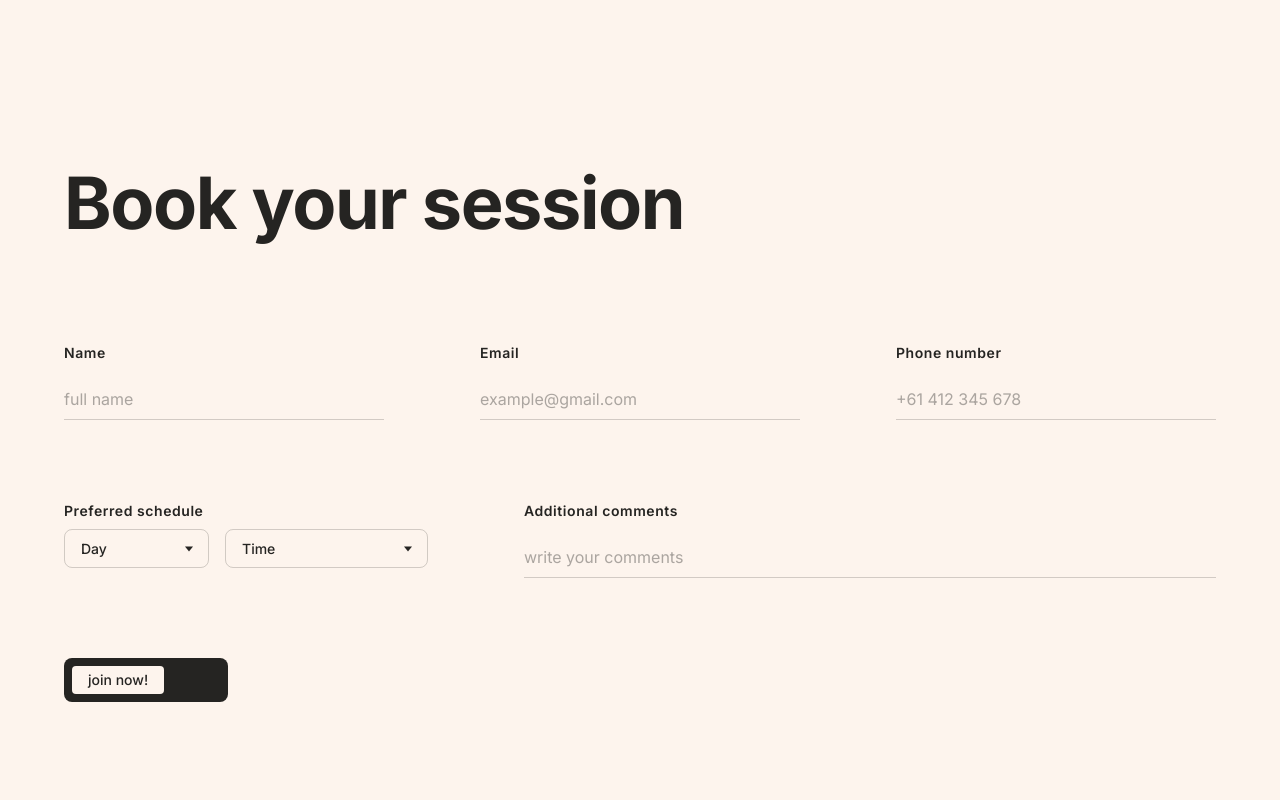
Test case: BookingSection › shows server error when submitBooking returns an error
The image size is (1280, 800).
Type "Jane Smith" into the field labelled "Name" at (224, 400), box [64,379,384,420]
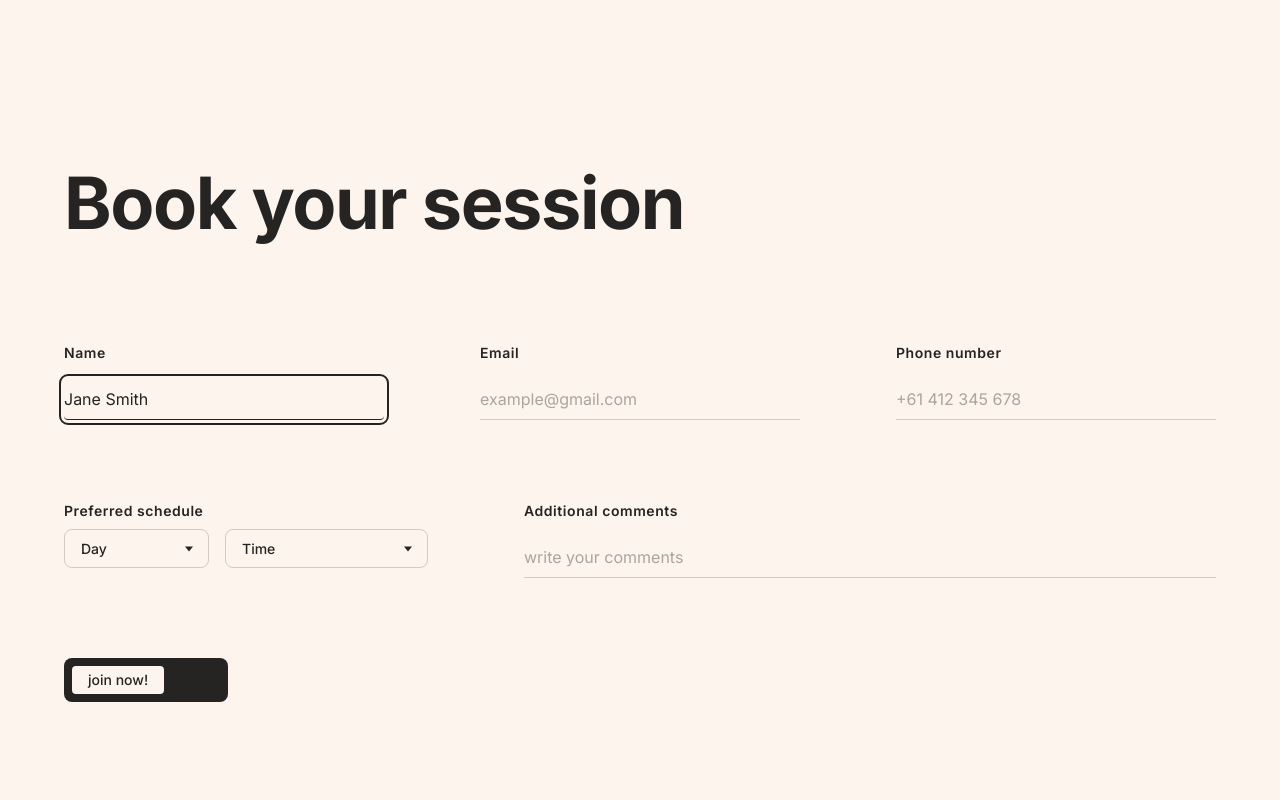
Type "jane@example.com" into the field labelled "Email" at (640, 400), box [480,379,800,420]
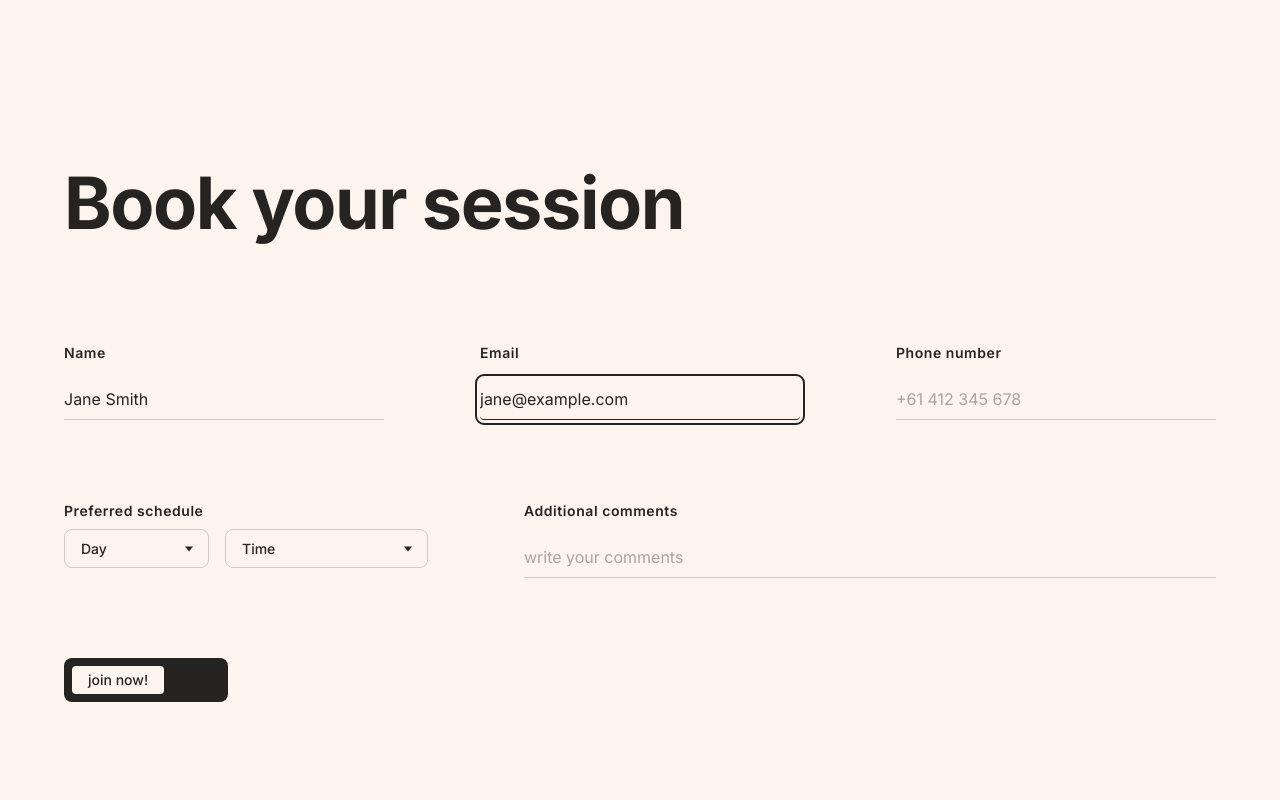
Type "0412345678" into the field labelled "Phone number" at (1056, 400), box [896,379,1216,420]
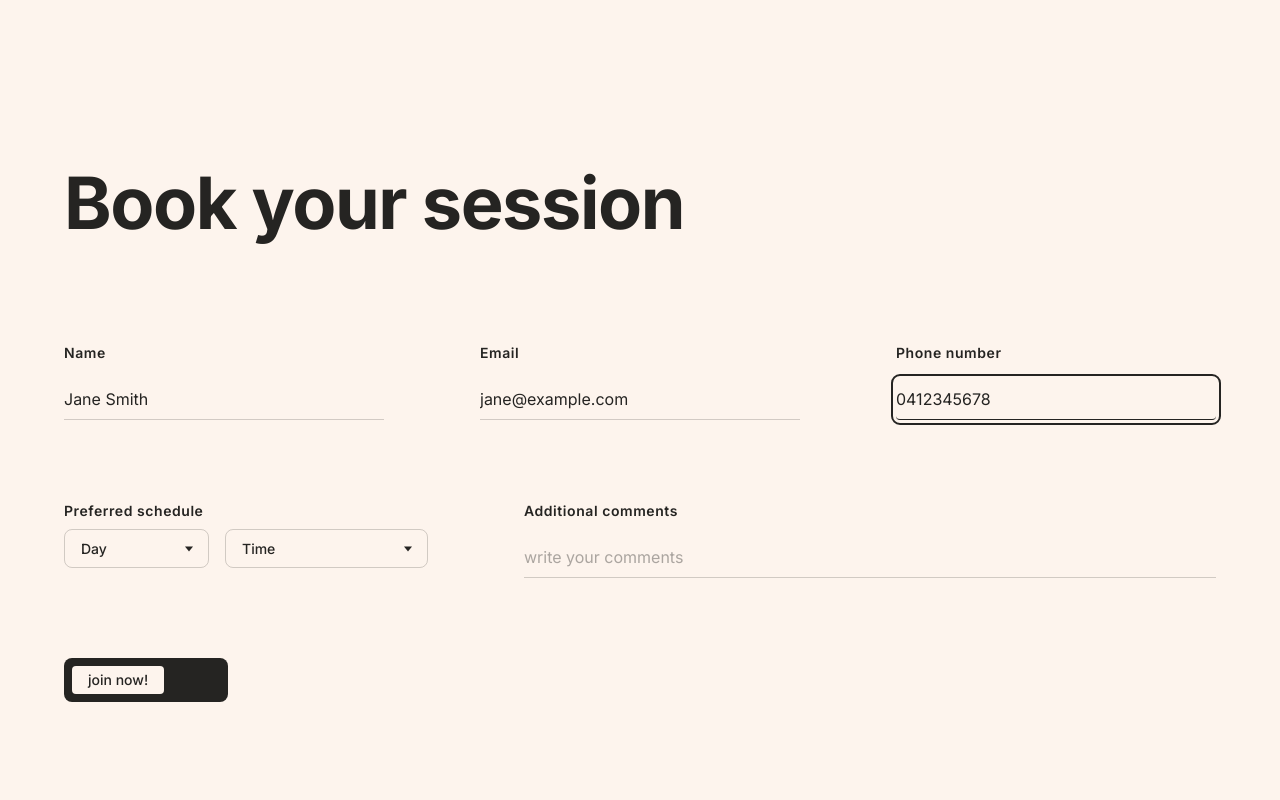
Select "Monday" in the dropdown named "day of the week" at (136, 549), box [64,529,209,568]
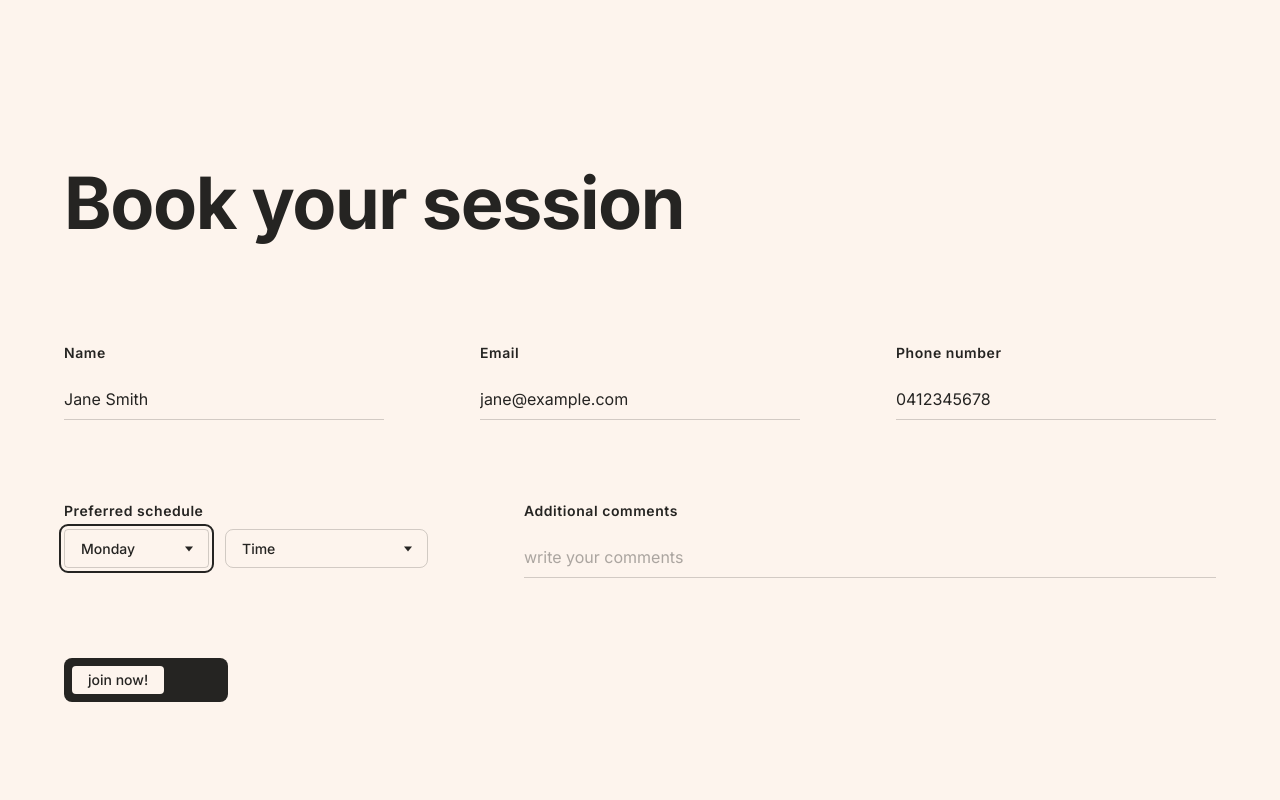
Select "10:00am – 12:00pm" in the dropdown named "preferred time slot" at (326, 549), box [225,529,428,568]
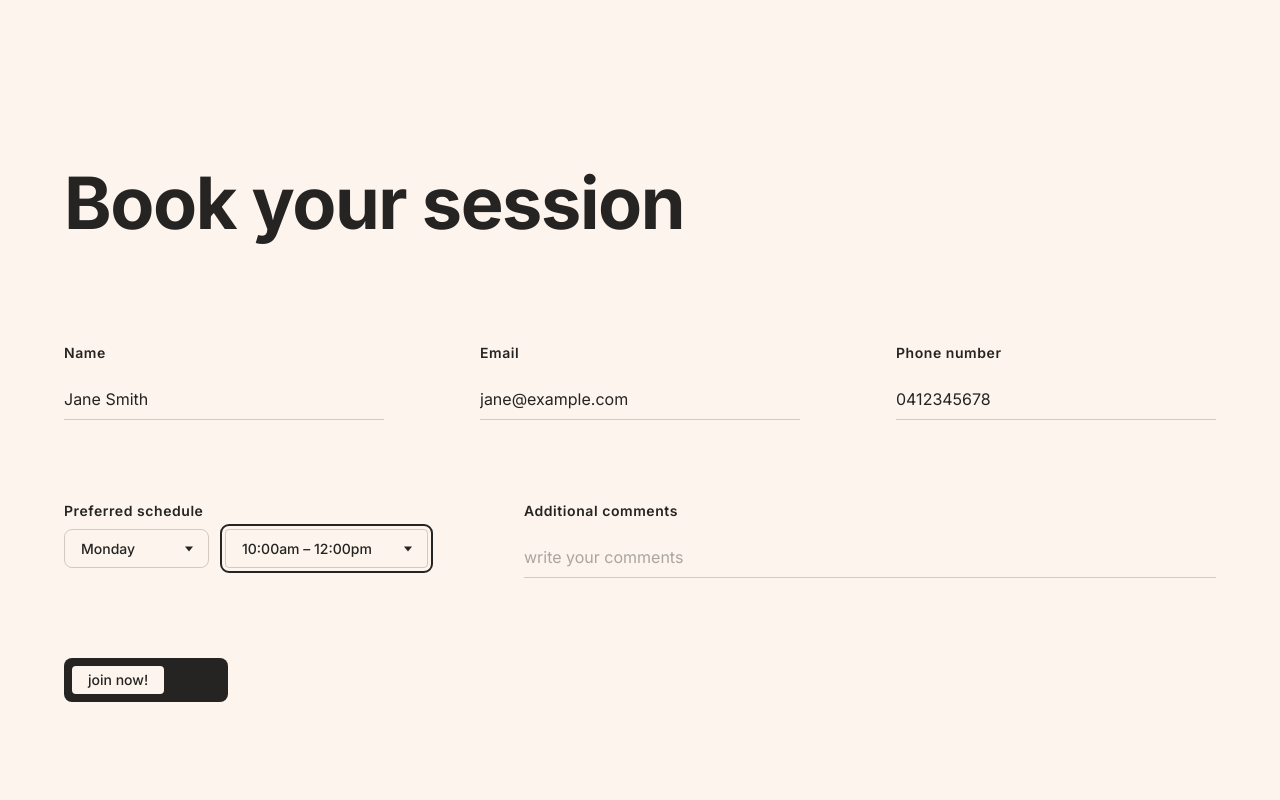
Click the button "join now!" at (146, 680), box [64,658,228,702]
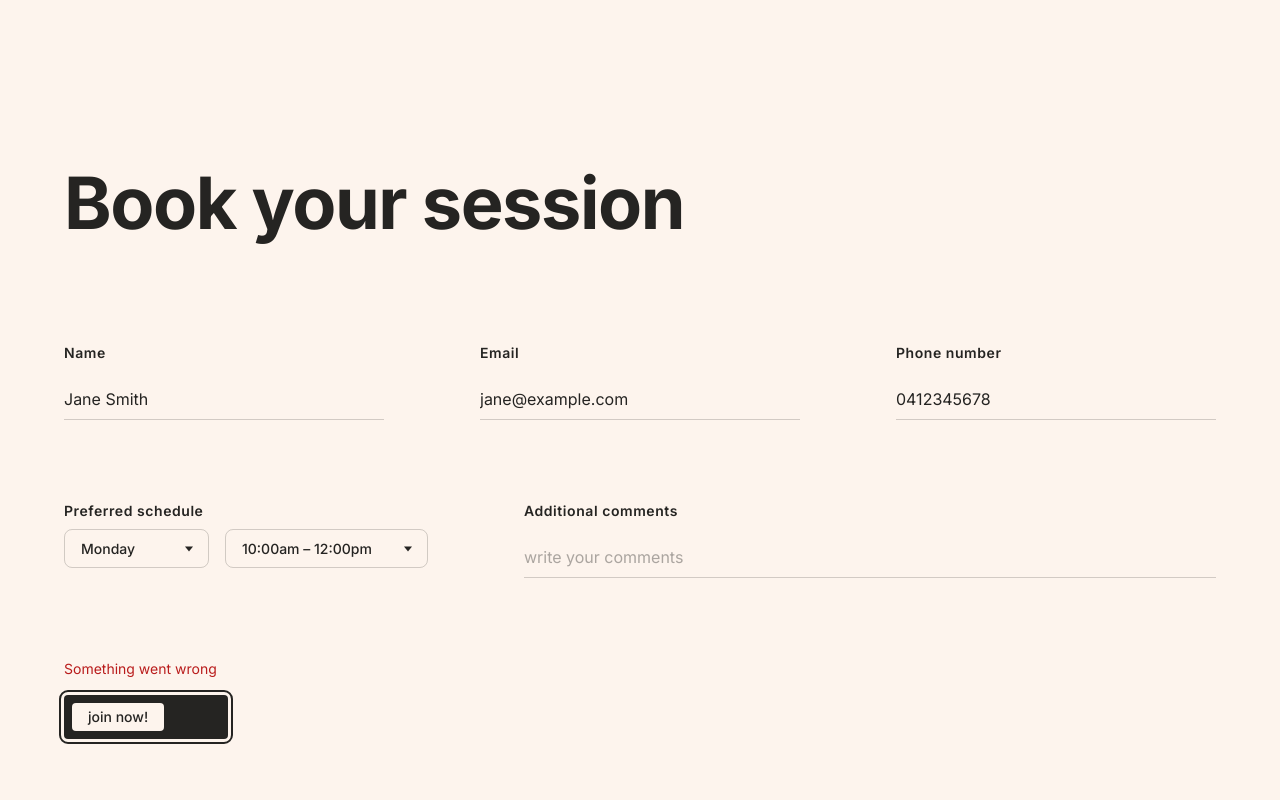
Expected: the button "join now!" is shown, [64,695,228,739]
Expected: the message reads "Something went wrong", [64,660,217,677]
